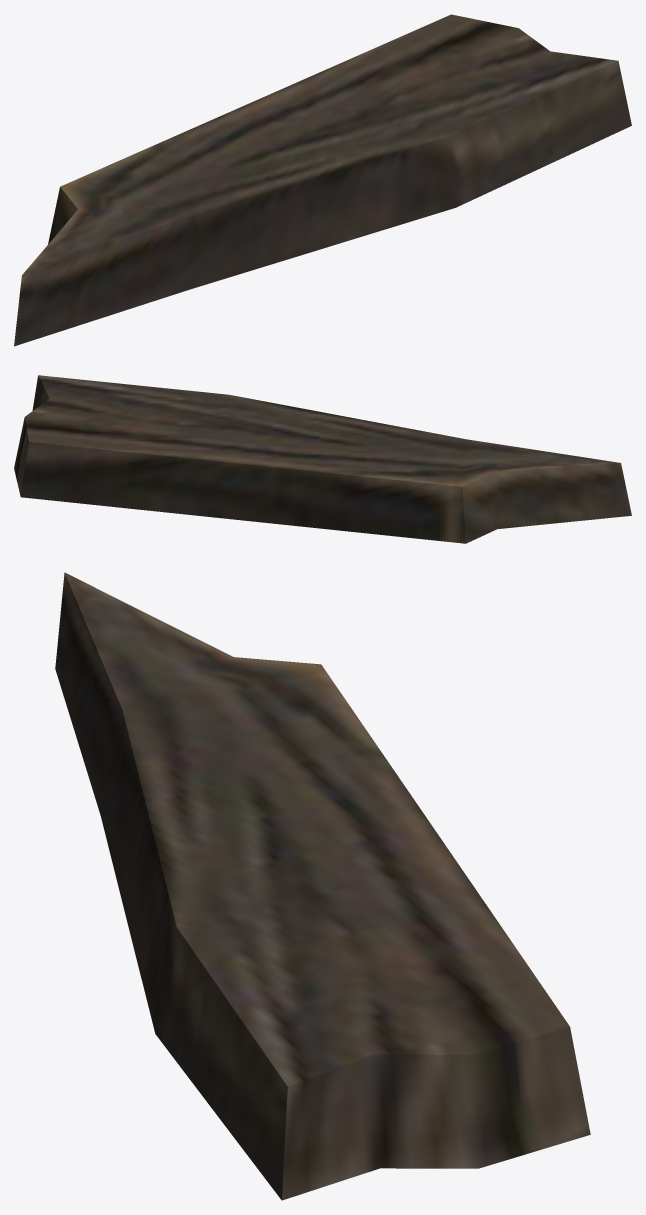
The model's file is Treasure_Wood_04.FBX.
The picture shows the model from 3 angles, top to bottom: view 1: azimuth 30°, elevation 25°; view 2: azimuth 150°, elevation 25°; view 3: azimuth 270°, elevation 25°; orthographic projection. The views are drawn at different scales.
Visible parts, largest first — view 1: Treasure_Wood_04; view 2: Treasure_Wood_04; view 3: Treasure_Wood_04.
Part boxes in pixels (x1,y1,x2,y2): Treasure_Wood_04: (14,14,631,346); Treasure_Wood_04: (14,375,631,543); Treasure_Wood_04: (55,572,590,1200).
Size of the model in its own units: 1.08 by 0.0993 by 0.4597.
